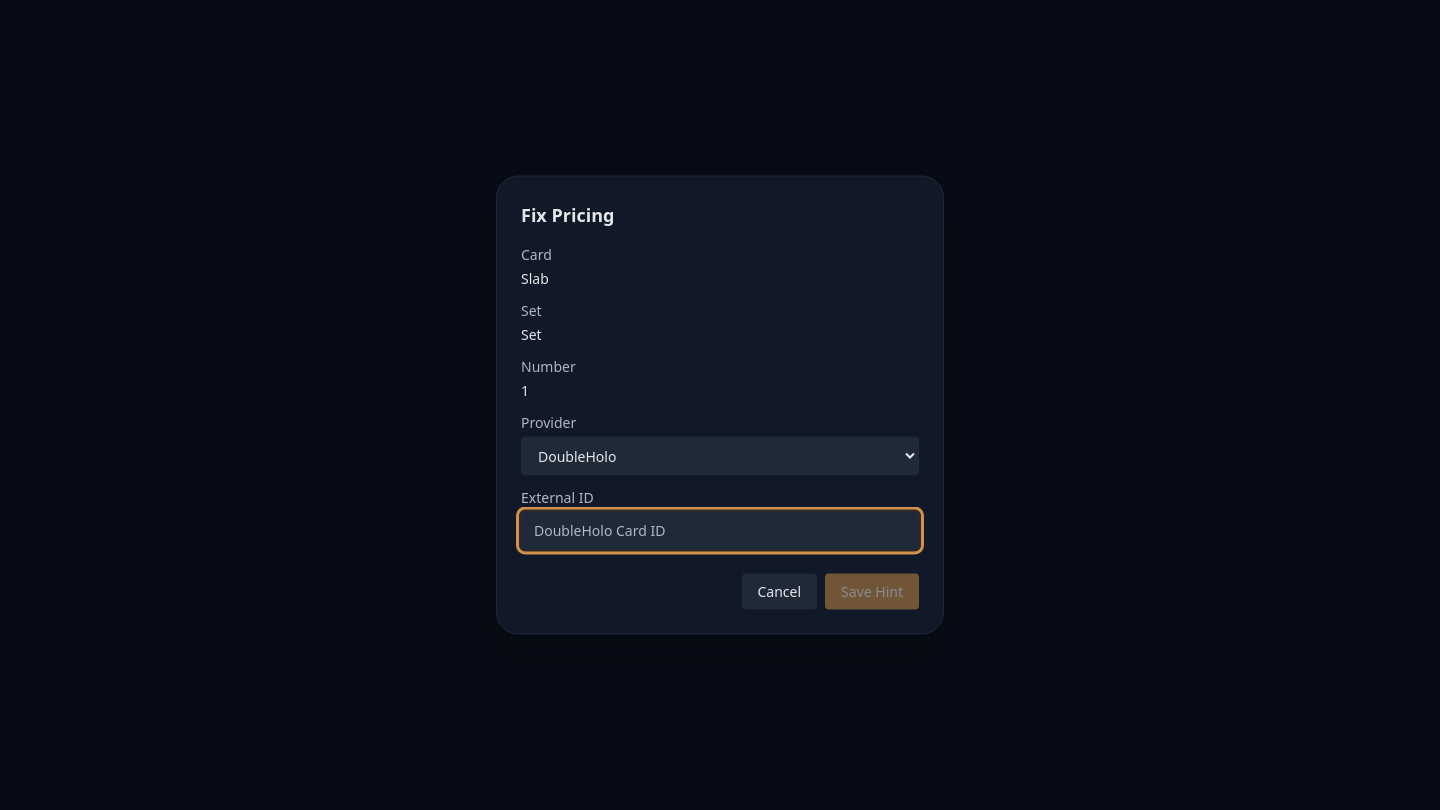
Test: settles hint/Save Hint after unmount and full 200 response body
Type "1234" into the field labelled "External ID" at (720, 530), box 521,512 -> 919,550
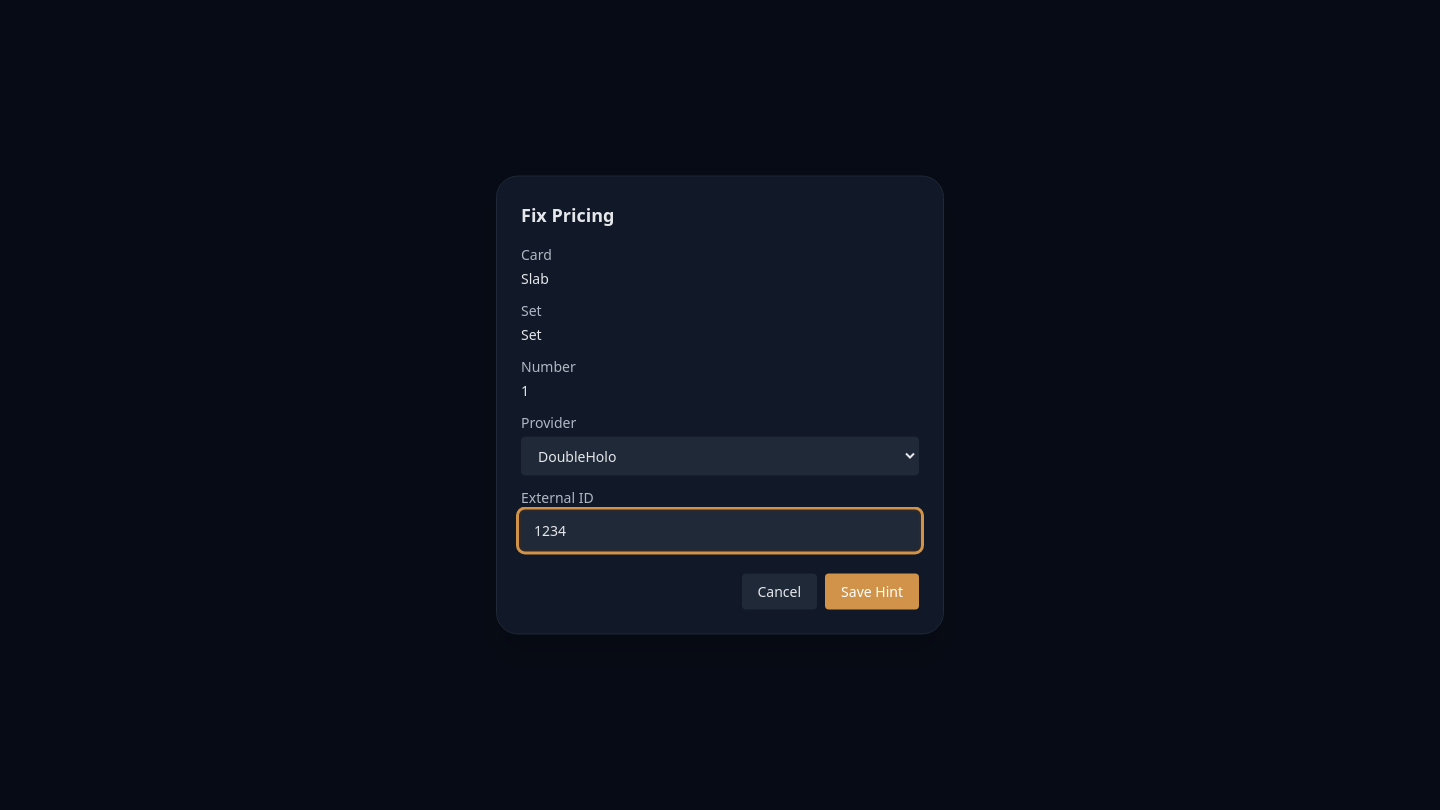
Click the button "Save Hint" at (872, 592), box 825,574 -> 919,610
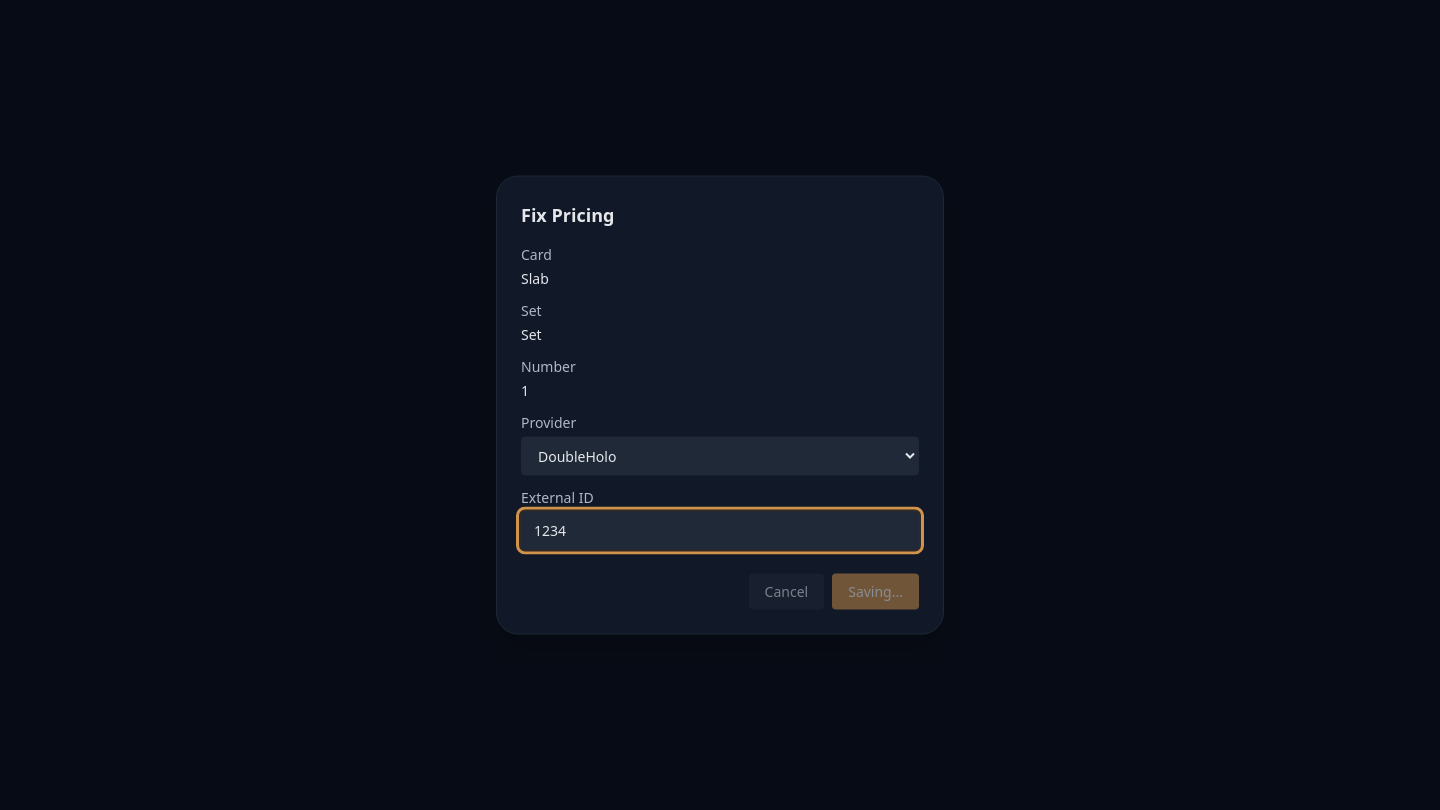
Result: the button named "Save Hint" is disabled at 832,574 -> 919,610
